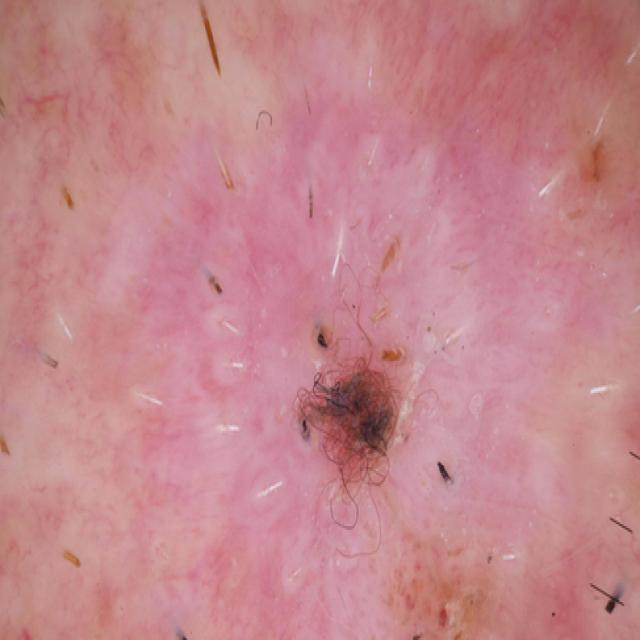Carcinoma: (281, 288, 458, 518), (381, 560, 511, 640), (569, 114, 629, 255)
